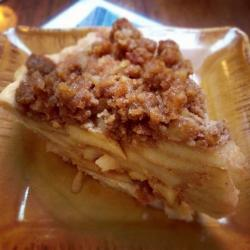apple_pie: (9, 24, 241, 230)
